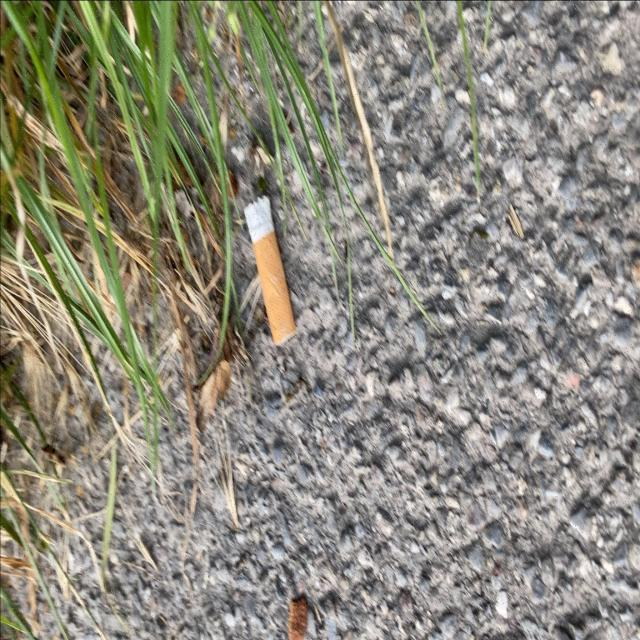other waste: (242, 193, 297, 347)
